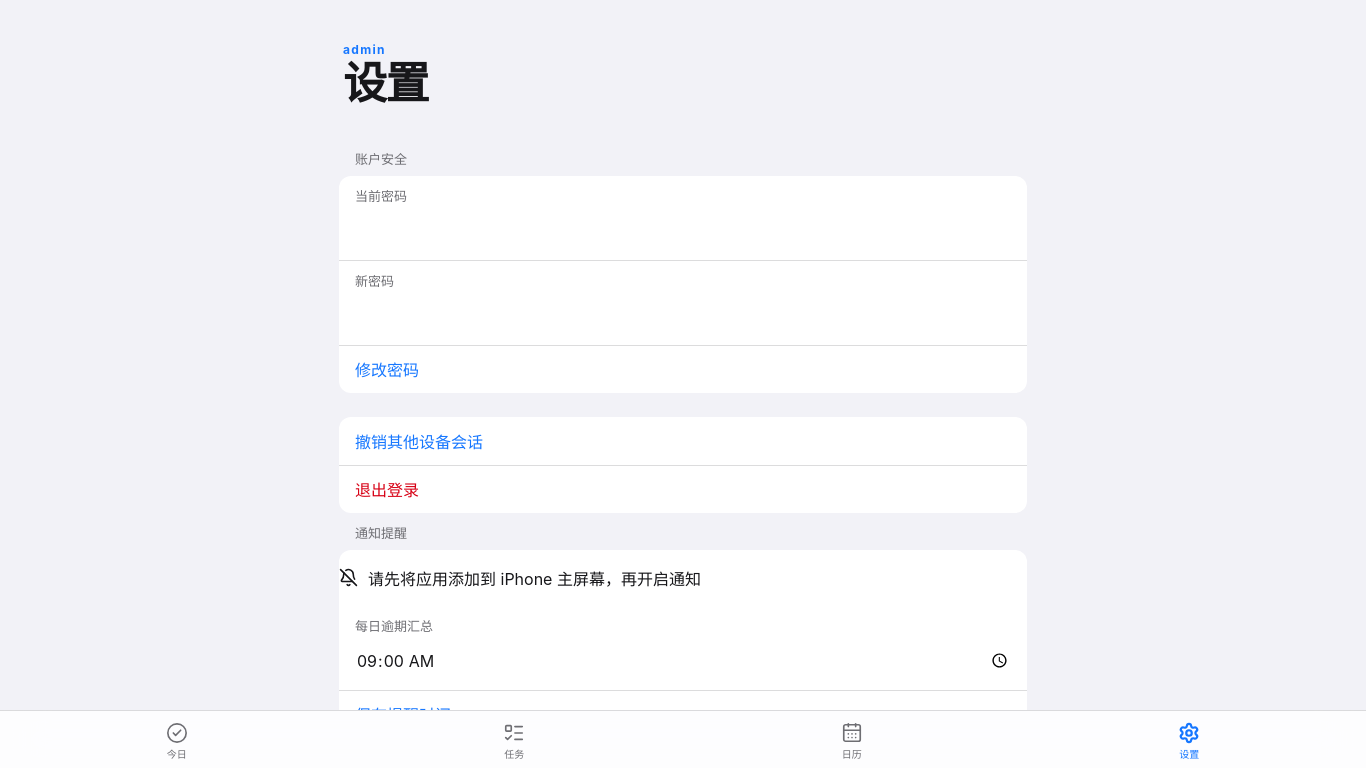
Scenario: authenticated application shell › returns to login after an expired session without clearing local task data
This screenshot has width=1366, height=768.
Click the button "撤销其他设备会话": (419, 442) x1=339 y1=417 x2=1027 y2=465
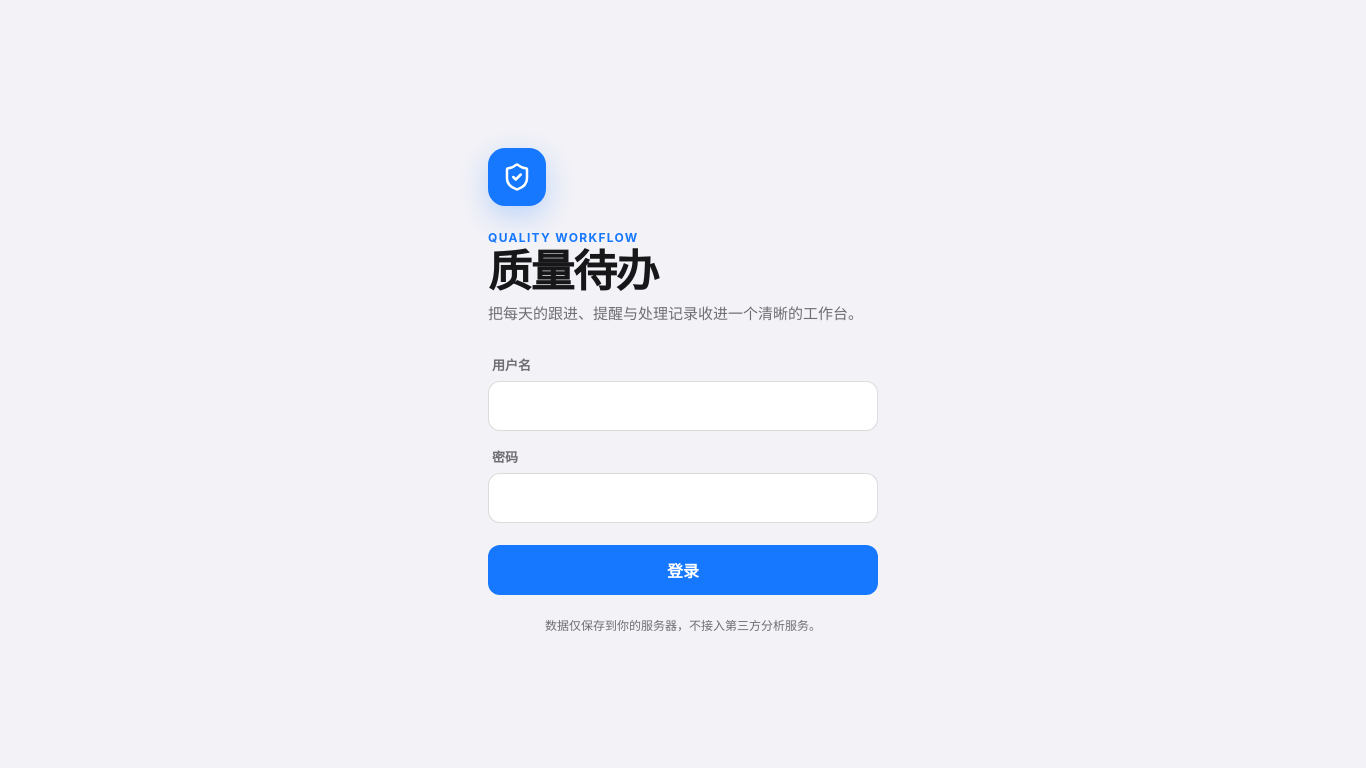
Check: the heading "质量待办" is shown, box x1=488 y1=244 x2=658 y2=298
